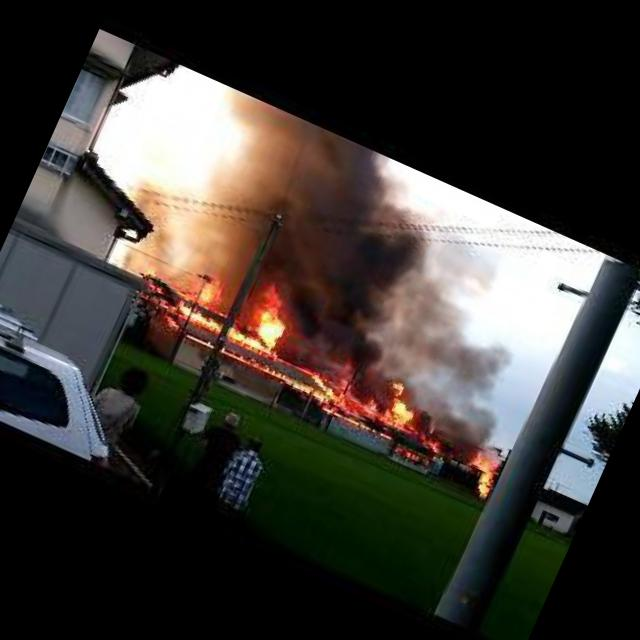fire: (304, 349, 463, 456), (178, 268, 302, 361), (184, 331, 324, 401), (124, 268, 194, 330), (321, 405, 396, 443), (463, 455, 502, 498), (280, 354, 314, 376), (397, 448, 433, 468)
smoke: (164, 89, 456, 346), (290, 198, 547, 426), (104, 162, 232, 291)
